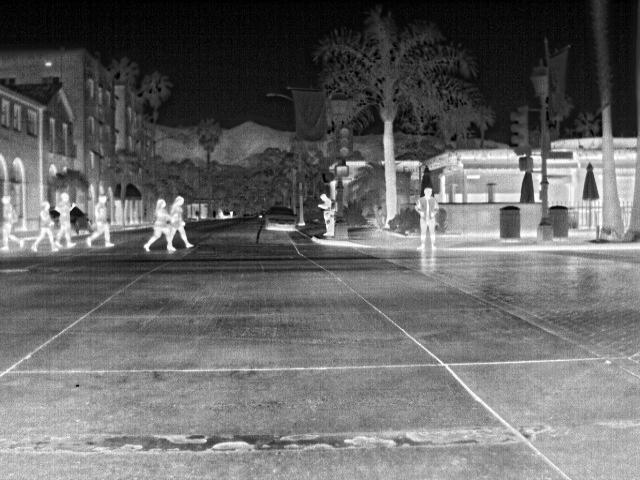car: (262, 204, 300, 234)
person: (140, 196, 177, 254), (411, 186, 441, 250), (85, 192, 117, 248), (28, 200, 61, 254), (165, 194, 195, 248), (53, 190, 80, 248), (0, 196, 27, 252), (317, 192, 337, 240)
